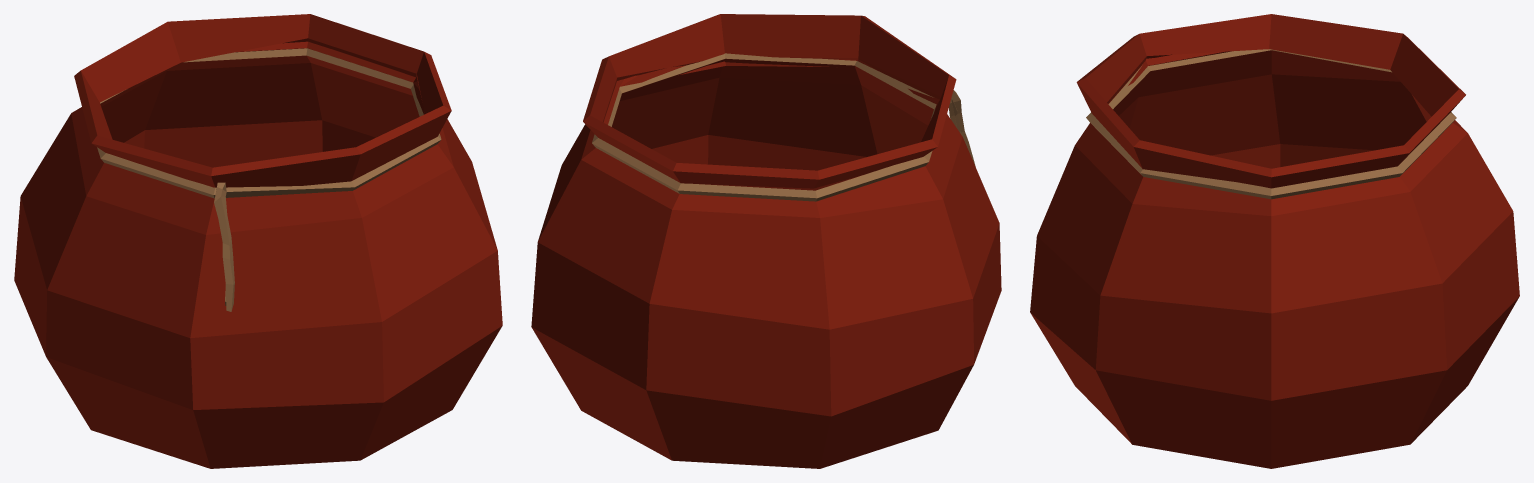
File: bag.glb
The picture shows the model from 3 angles, left to right: view 1: azimuth 30°, elevation 25°; view 2: azimuth 150°, elevation 25°; view 3: azimuth 270°, elevation 25°; orthographic projection.
Visible parts, largest first — view 1: Cylinder; view 2: Cylinder; view 3: Cylinder.
Boxes of the visible parts, box(x1,y1,x2,y2) form: Cylinder: box(14, 14, 502, 468); Cylinder: box(531, 14, 1001, 468); Cylinder: box(1030, 14, 1519, 468).
Bounding box in the file's own units: 2.5 × 1.73 × 2.49.
1 material, 1 textured.
